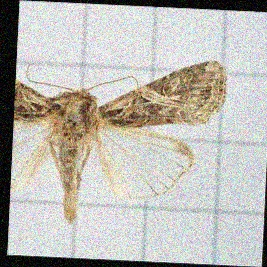Spodoptera litura: (13, 56, 225, 227)
